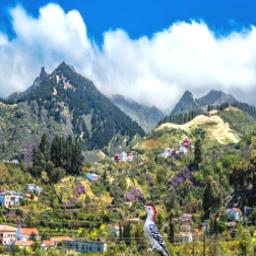Woodpecker: (138, 201, 173, 256)
